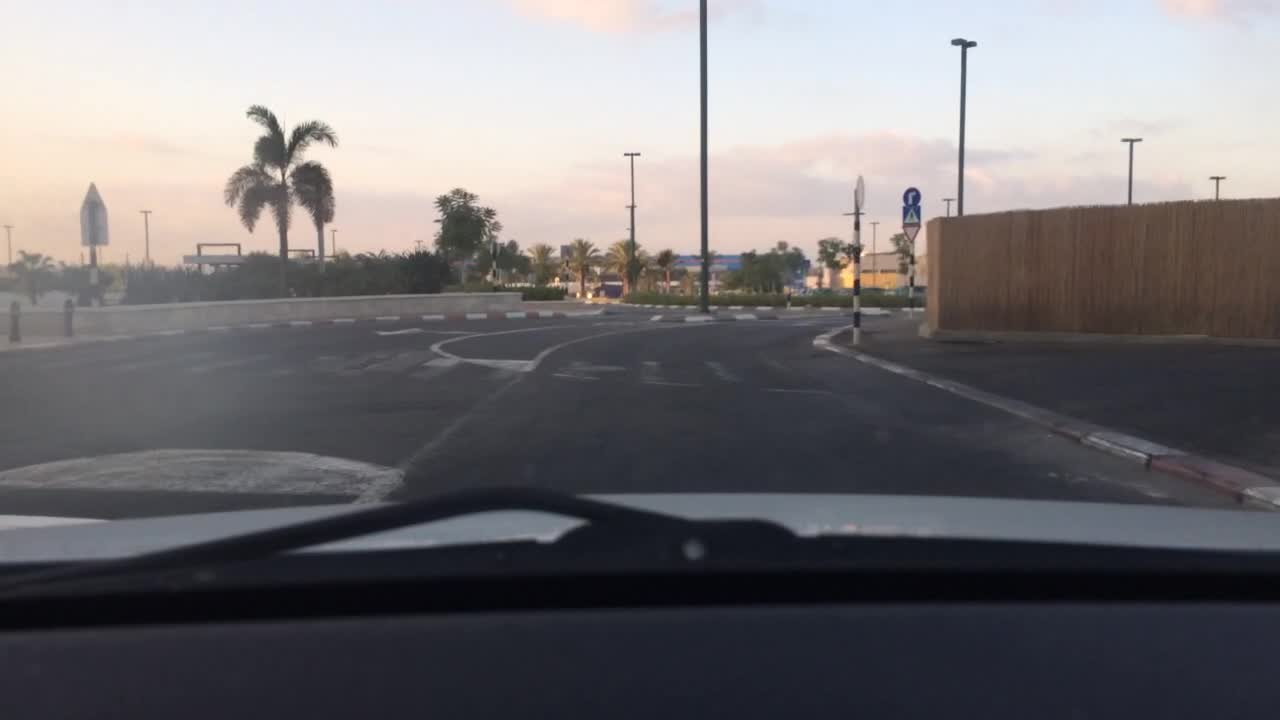traffic sign: (78, 184, 108, 246), (853, 175, 865, 212), (901, 184, 921, 204), (901, 204, 921, 222), (902, 223, 920, 238)
